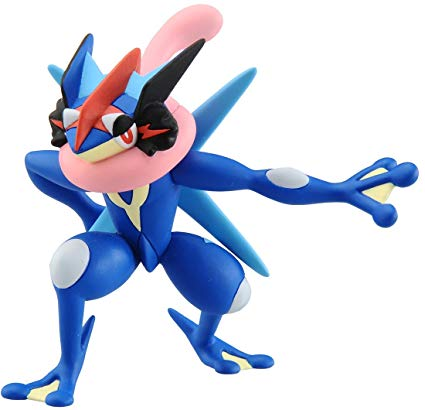greninja: (2, 1, 421, 407)
